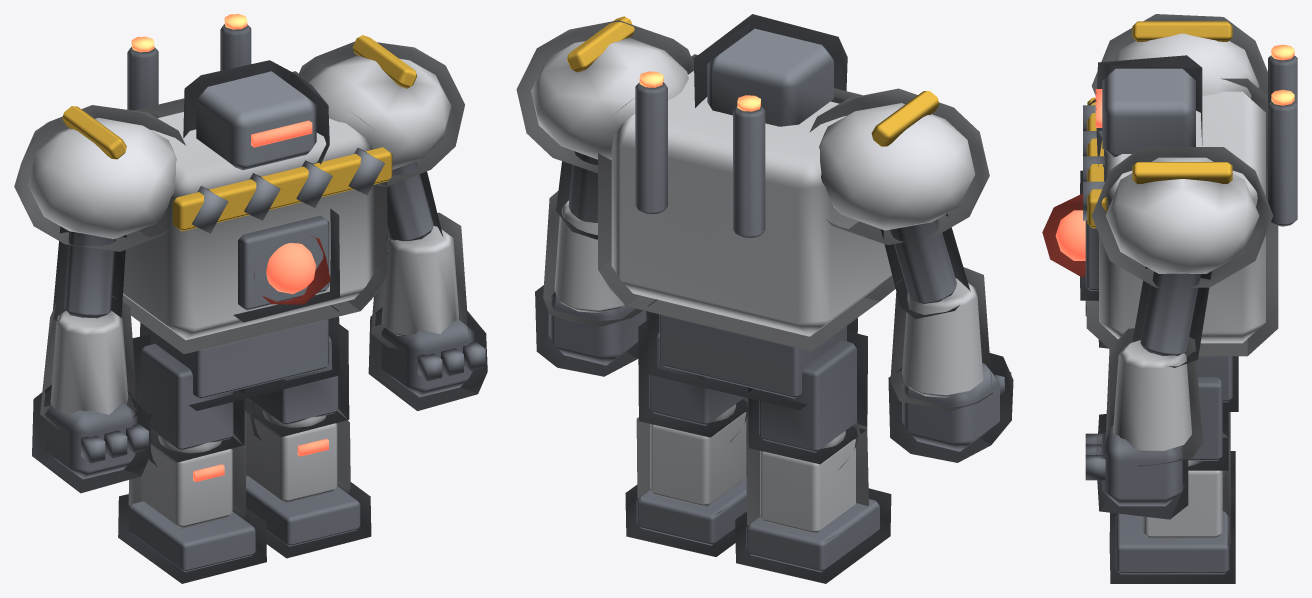
File: brute.glb
3 renders of one model, left to right at view 1: azimuth 30°, elevation 25°; view 2: azimuth 150°, elevation 25°; view 3: azimuth 270°, elevation 25°, orthographic. The views are drawn at different scales.
Visible parts, largest first — view 1: Body_Mesh, Body_Mesh_Outline, ThighR_Mesh, ThighL_Mesh, ThighR_Mesh_Outline, ThighL_Mesh_Outline; view 2: Body_Mesh, Body_Mesh_Outline, ThighR_Mesh, ThighL_Mesh, ThighR_Mesh_Outline, ThighL_Mesh_Outline; view 3: Body_Mesh, Body_Mesh_Outline, ThighL_Mesh, ThighL_Mesh_Outline, ThighR_Mesh_Outline.
Boxes of the visible parts, x1=… form: Body_Mesh: x1=28, y1=14, x2=485, y2=479; Body_Mesh_Outline: x1=14, y1=41, x2=487, y2=493; ThighR_Mesh: x1=128, y1=343, x2=256, y2=571; ThighL_Mesh: x1=245, y1=336, x2=360, y2=546; ThighR_Mesh_Outline: x1=118, y1=334, x2=266, y2=583; ThighL_Mesh_Outline: x1=243, y1=324, x2=371, y2=558; Body_Mesh: x1=531, y1=16, x2=1011, y2=451; Body_Mesh_Outline: x1=516, y1=14, x2=1013, y2=462; ThighR_Mesh: x1=746, y1=340, x2=879, y2=572; ThighL_Mesh: x1=636, y1=332, x2=746, y2=545; ThighR_Mesh_Outline: x1=735, y1=331, x2=891, y2=583; ThighL_Mesh_Outline: x1=625, y1=320, x2=748, y2=556; Body_Mesh: x1=1055, y1=21, x2=1297, y2=506; Body_Mesh_Outline: x1=1042, y1=14, x2=1278, y2=519; ThighL_Mesh: x1=1115, y1=377, x2=1229, y2=574; ThighL_Mesh_Outline: x1=1109, y1=412, x2=1235, y2=583; ThighR_Mesh_Outline: x1=1110, y1=412, x2=1235, y2=514.
Size of the model in its own units: 1.48 by 1.54 by 0.7639.
